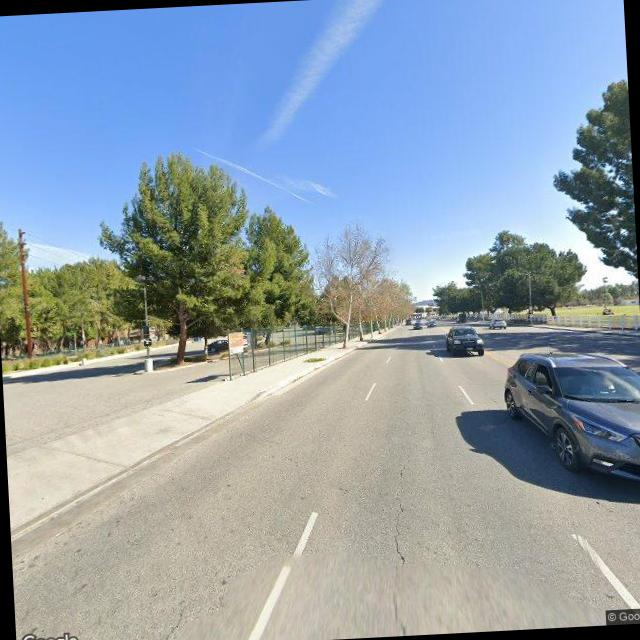pothole: (381, 451, 417, 564)
